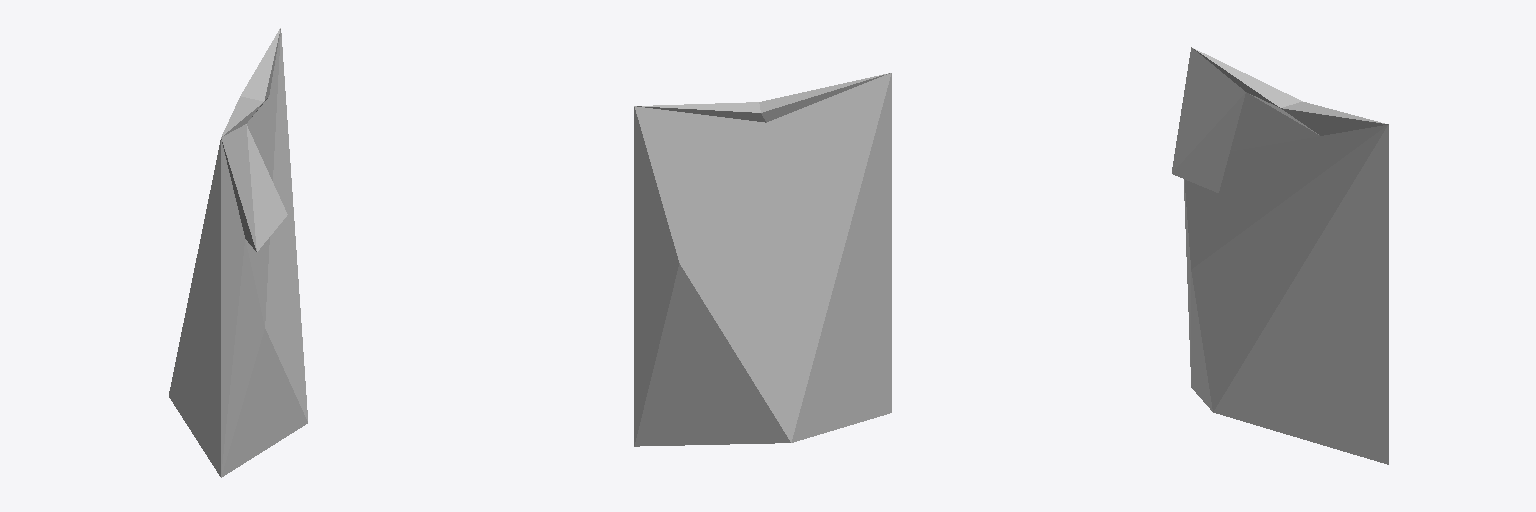
The model's file is snacks.obj.
3 views of the same model, side by side, from view 1: azimuth 30°, elevation 25°; view 2: azimuth 150°, elevation 25°; view 3: azimuth 270°, elevation 25° (orthographic).
Parts seen in each view (by area): view 1: Cube; view 2: Cube; view 3: Cube.
Part boxes in pixels (x1,y1,x2,y2): Cube: (169,28,307,477); Cube: (634,73,891,446); Cube: (1172,47,1388,464).
Size of the model in its own units: 1.72 by 3.52 by 2.03.